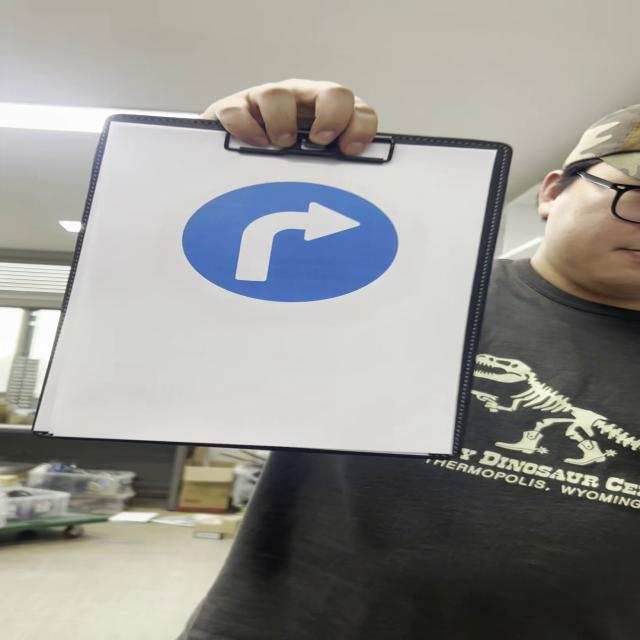right: (188, 183, 399, 305)
